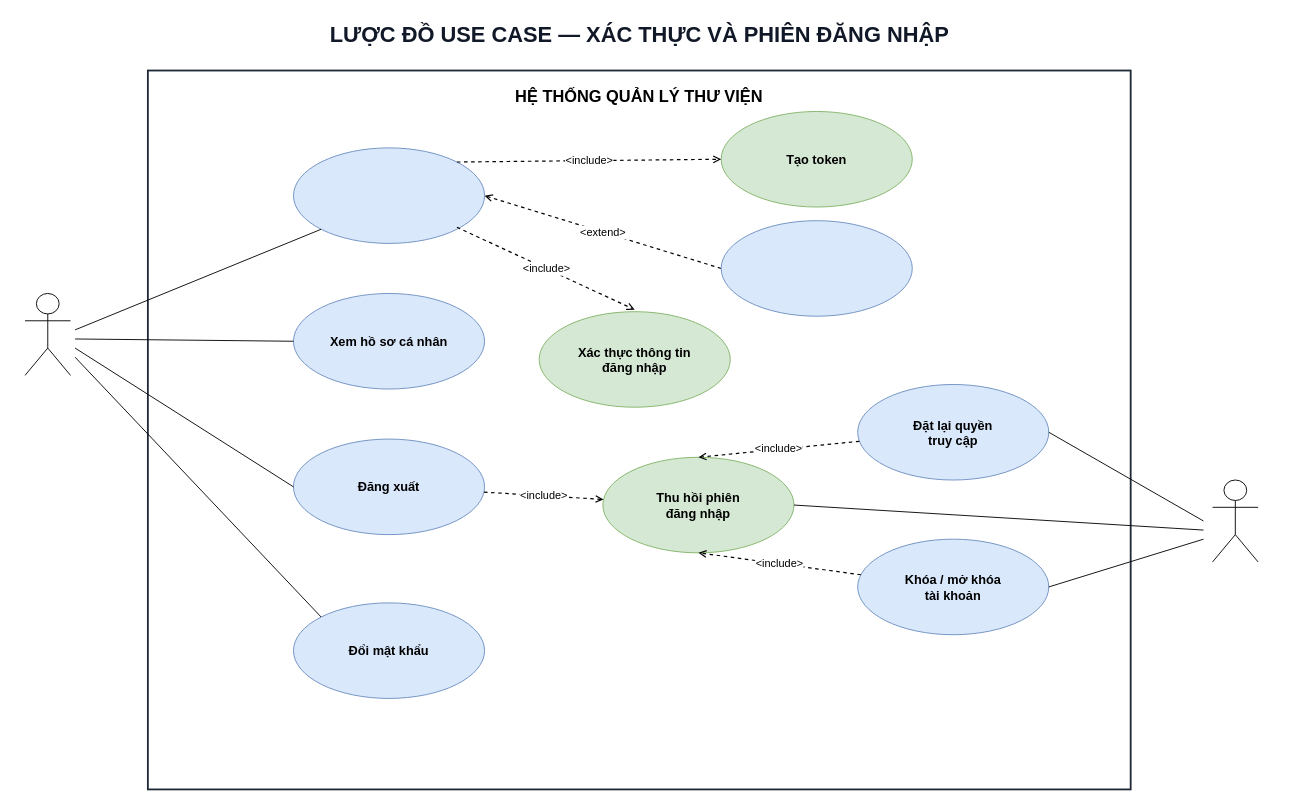
Some shapes in this 1304 by 805 pixel diagram are drawn without their labels. The centre of each missing label's shape, as x and y in pixels:
Nhân viên thư viện: the point at 47,334
Quản trị hệ thống: the point at 1235,520
Sai thông tin đăng nhập: the point at 816,268
Đăng nhập: the point at 389,195
